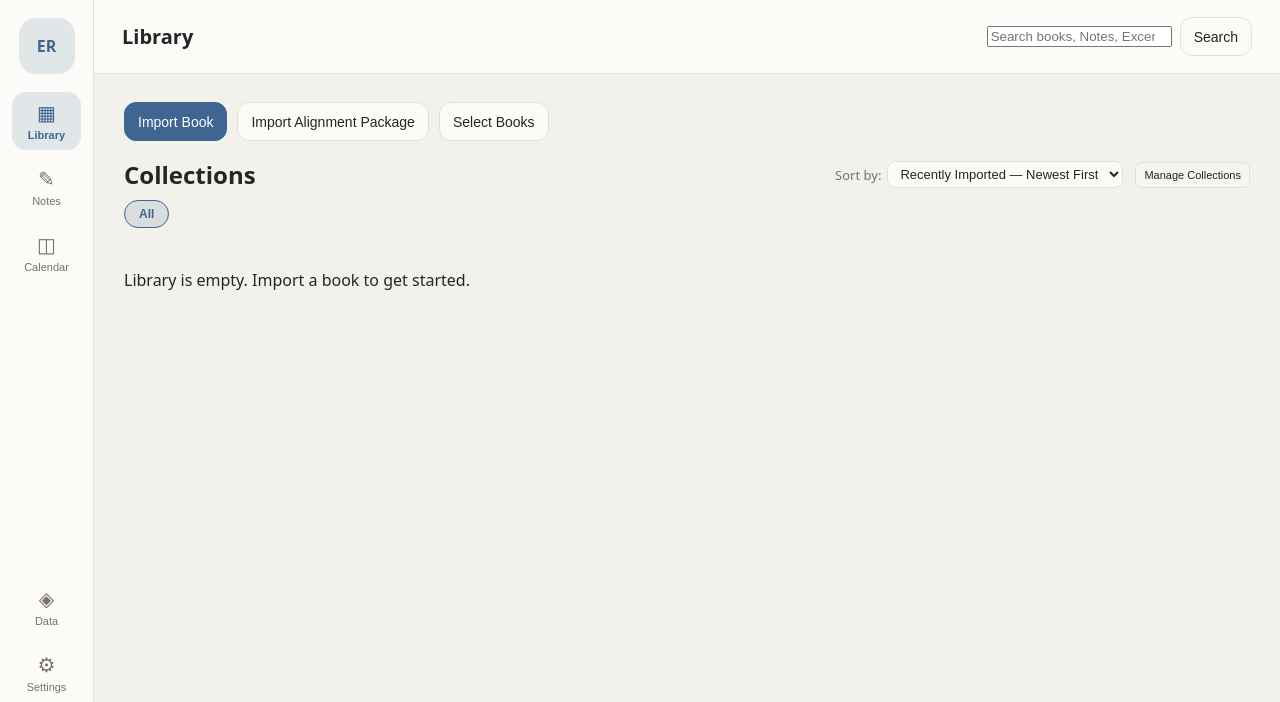
Library › imports a book via the native file picker and refreshes the list
The width and height of the screenshot is (1280, 702).
Check: the text "Library is empty. Import a book to get started." is shown, box x1=124 y1=269 x2=470 y2=291
Step 1. Click the button "Import Book" → (176, 122), box x1=124 y1=102 x2=228 y2=141
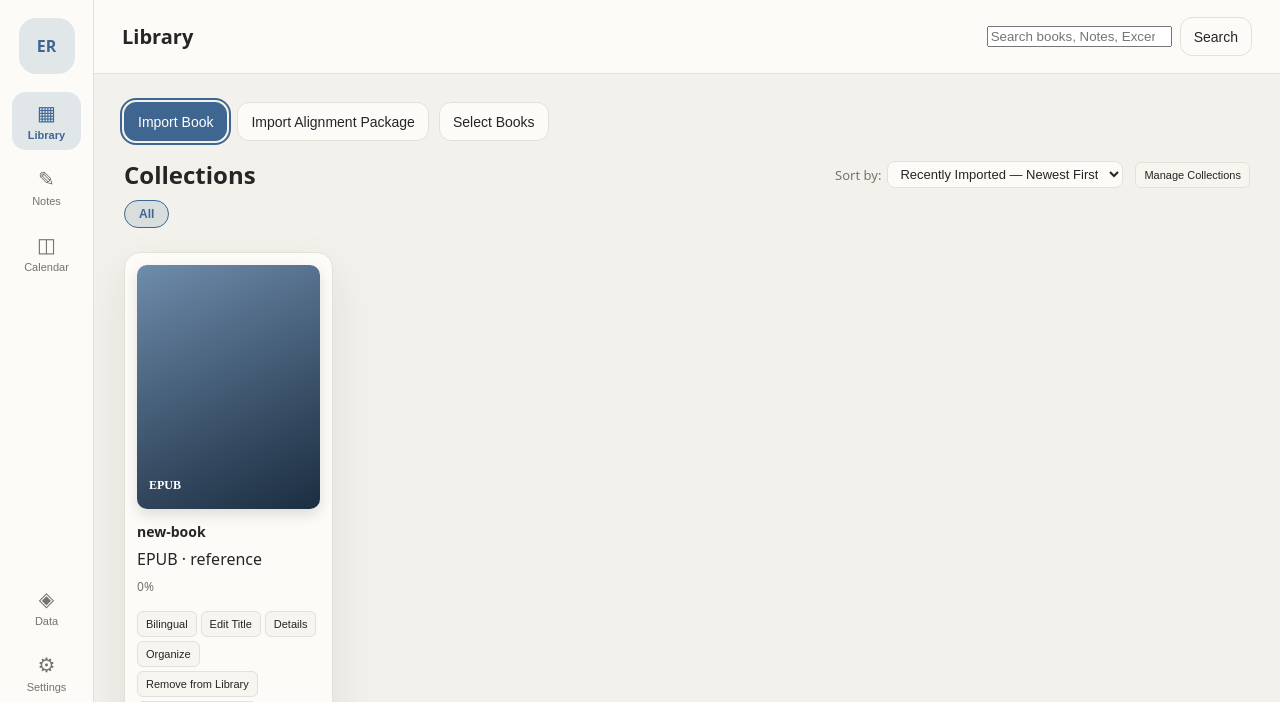
Check: the button "new-book" is shown, box x1=137 y1=523 x2=206 y2=542
